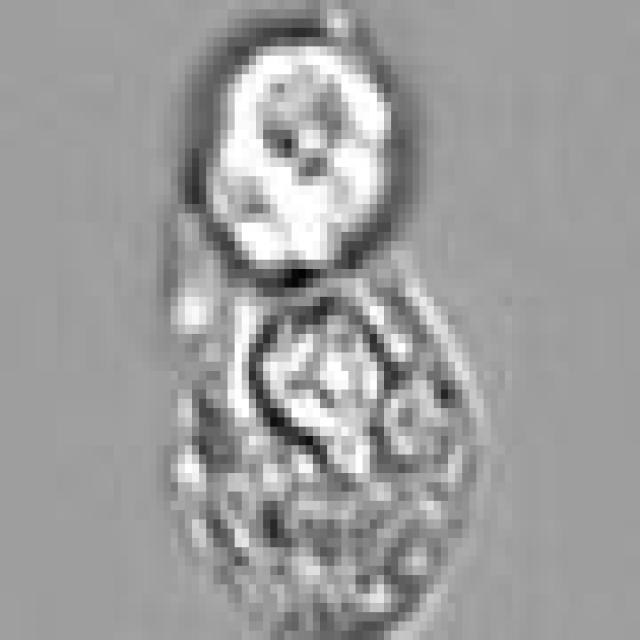Cancer Cell: (184, 259, 483, 640)
WBC: (199, 37, 398, 278)
